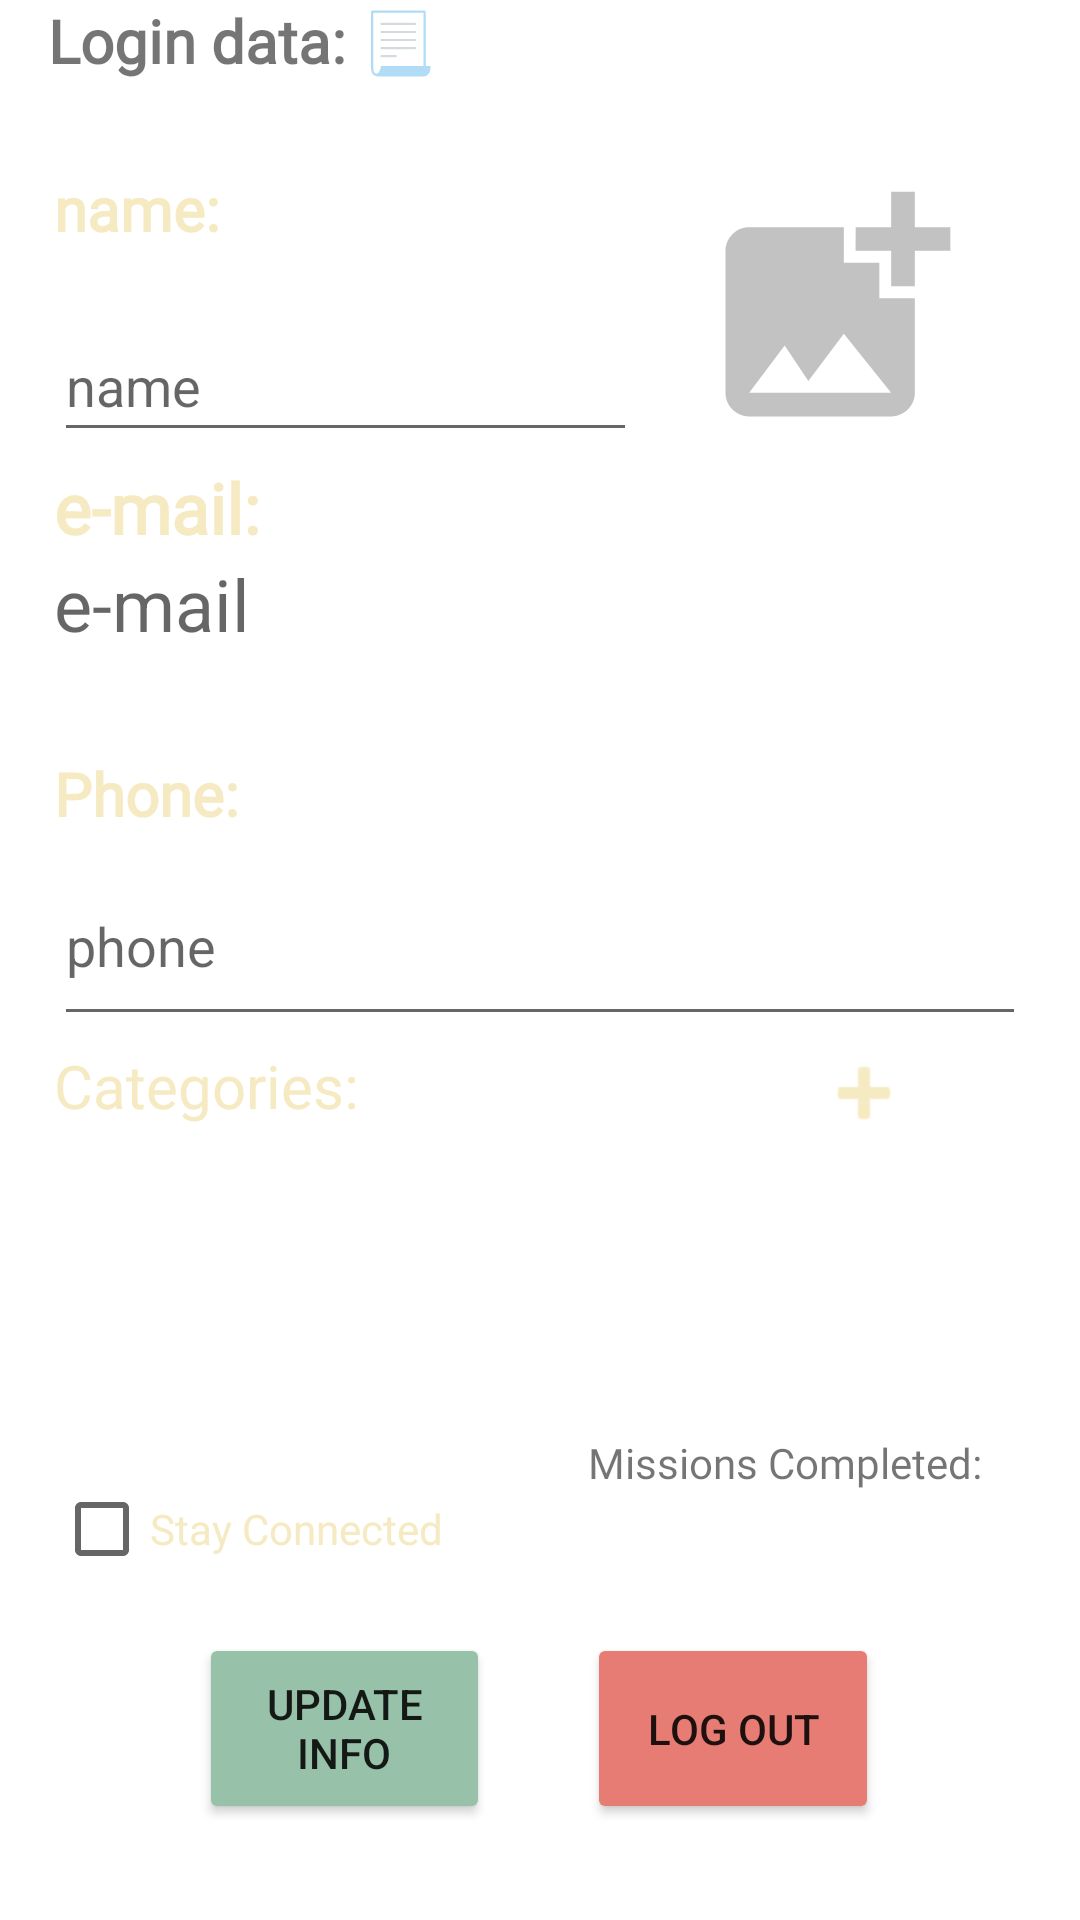

Icons on this 1080px×1920px Android screen, each with the point to tap as point (x, y):
add: point (864, 1093)
add photo alternate: point (837, 304)
